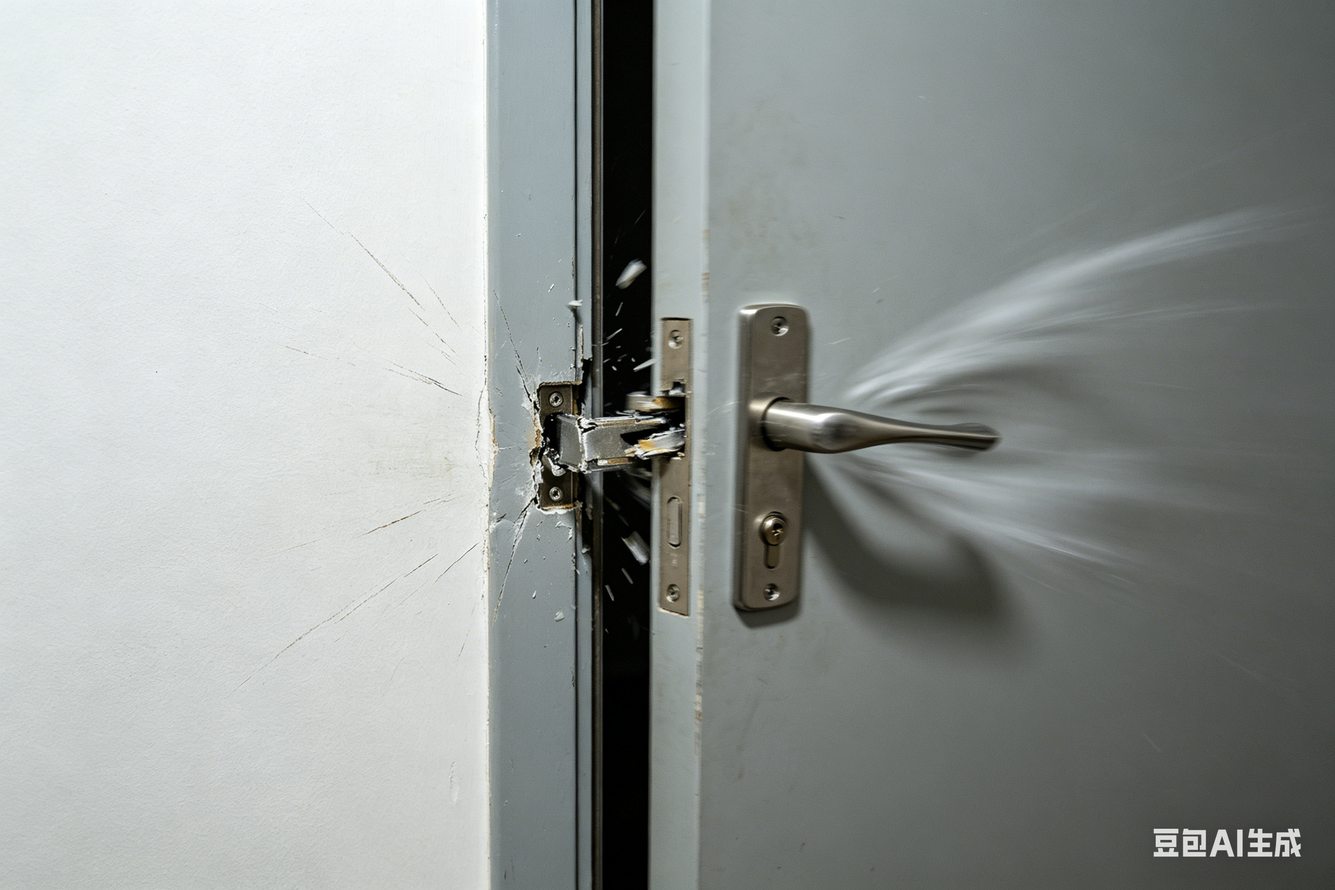BadLock: (482, 340, 719, 534)
